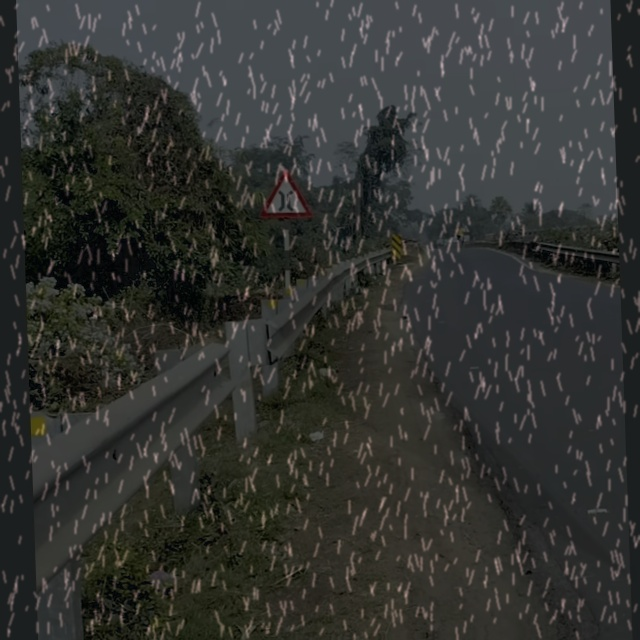Narrow_Bridge: (260, 169, 315, 222)
